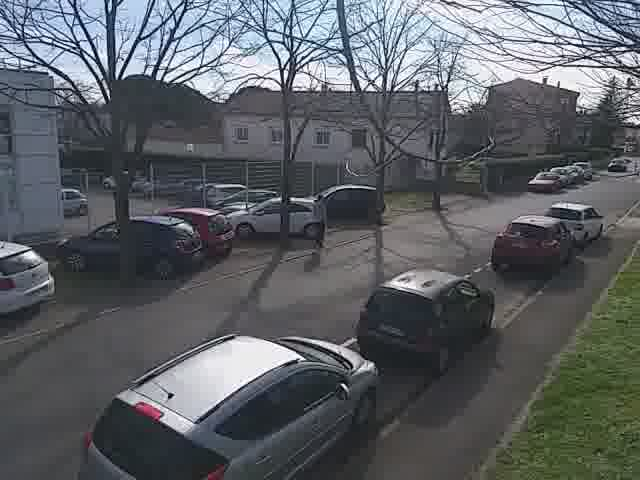persona: (304, 186, 337, 253)
